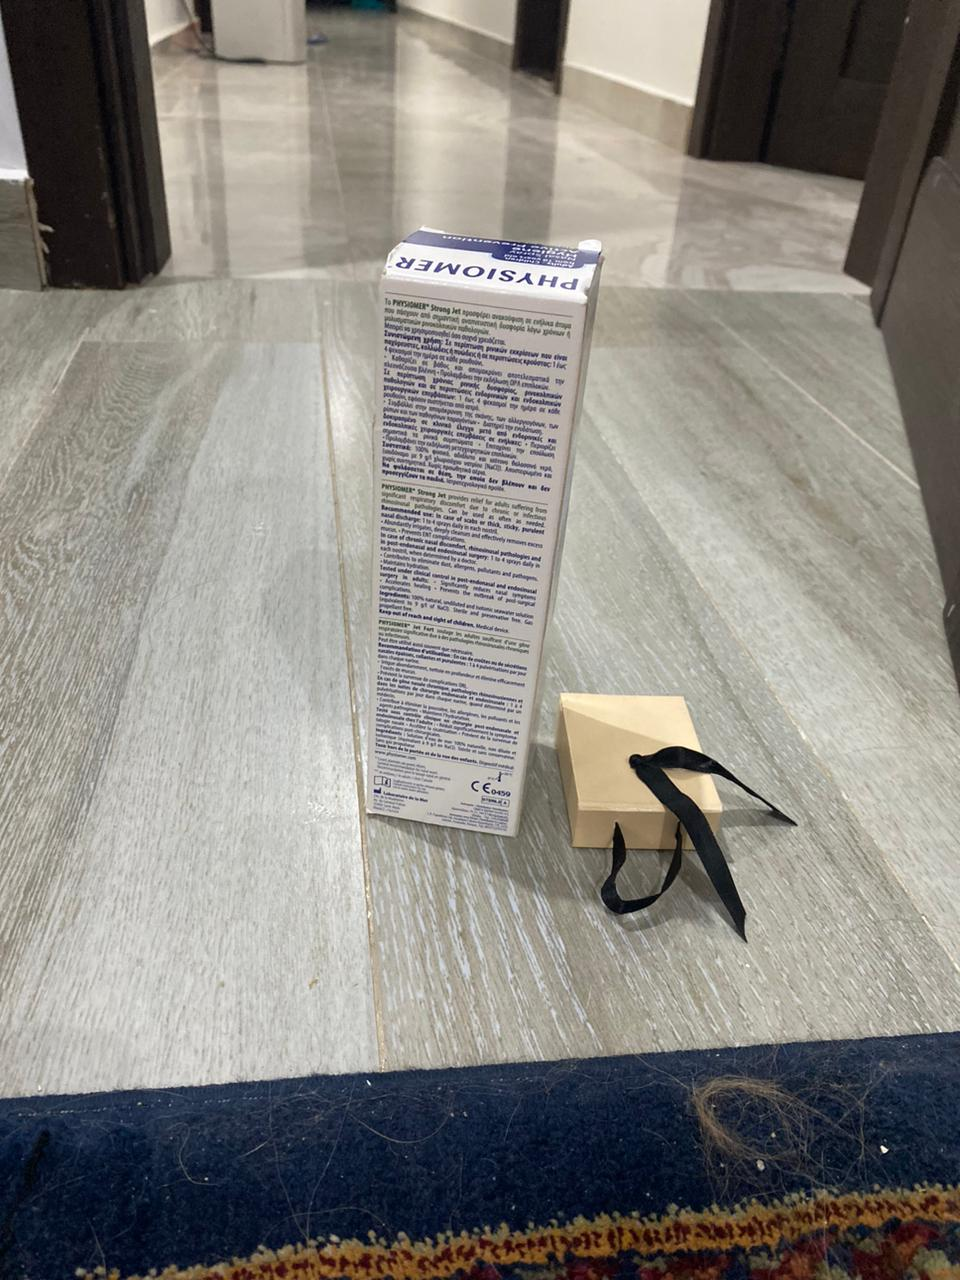Physiomer: (372, 222, 601, 846)
Yellow Box: (557, 687, 727, 864)
